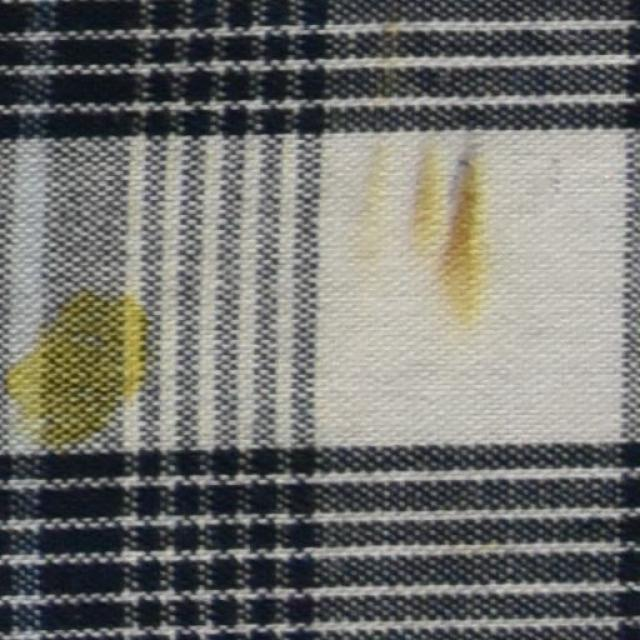Stain: (5, 284, 152, 461), (415, 144, 487, 326)
